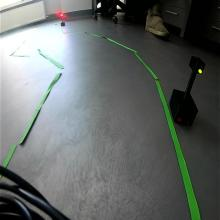green: (188, 55, 206, 75)
